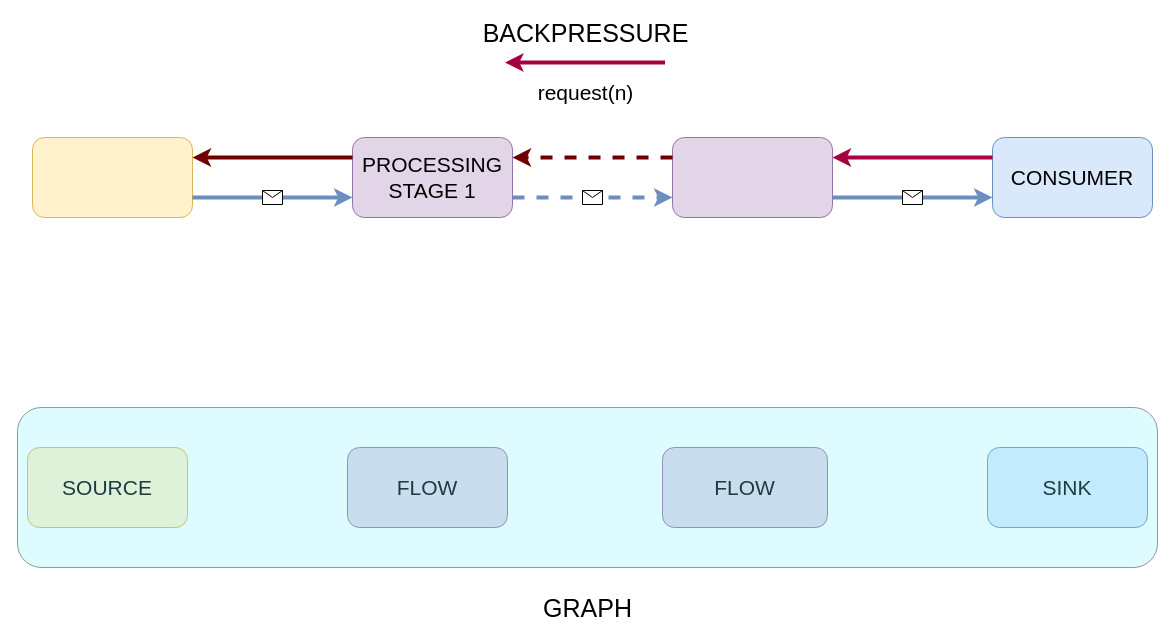
The diagram is 1175 pixels wide and 644 high, and some of its shapes have lost their labels. The box of each missing label's shape, as (x1, y1, x2, y2) in pixels:
PROCESSING STAGE N: (672, 136, 832, 218)
PRODUCER: (32, 136, 192, 218)
